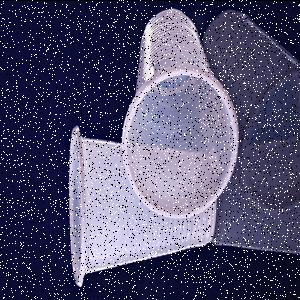Cup: (69, 124, 218, 290), (123, 8, 239, 220)
